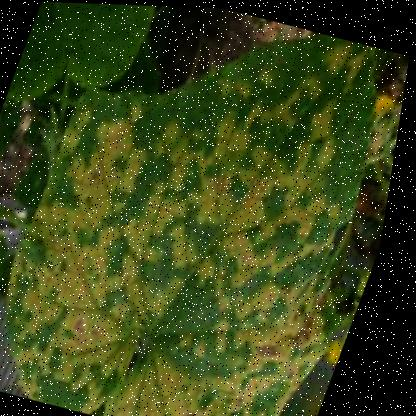DownyMildew: (27, 92, 380, 415)
